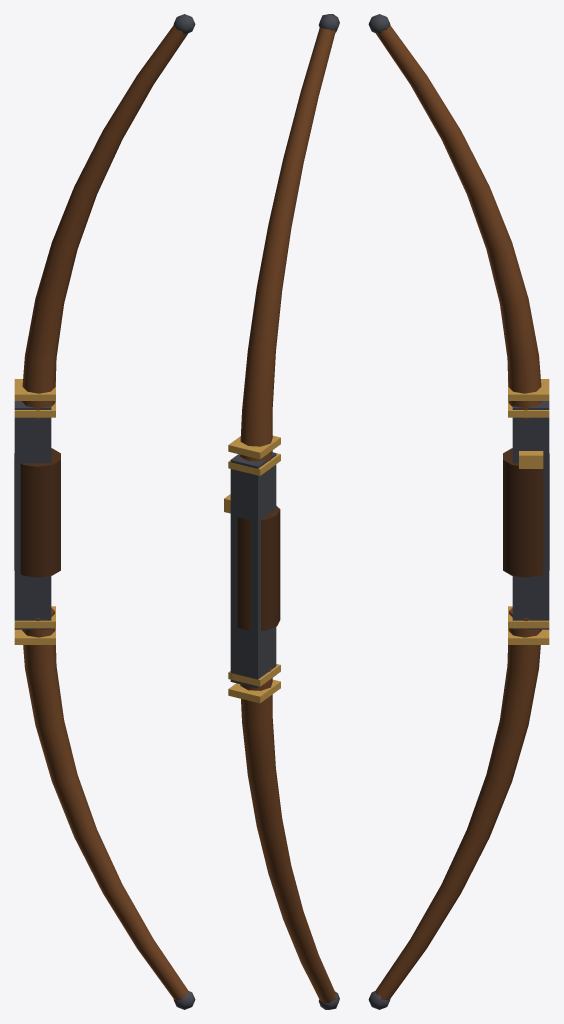
Rendered from longbow.glb.
3 views of the same model, side by side, from view 1: azimuth 90°, elevation 25°; view 2: azimuth 150°, elevation 25°; view 3: azimuth 270°, elevation 25° (orthographic).
Visible parts, largest first — view 1: Longbow_Wood, Longbow_Darksteel, Longbow_Leather, Longbow_Brass; view 2: Longbow_Wood, Longbow_Darksteel, Longbow_Leather, Longbow_Brass; view 3: Longbow_Wood, Longbow_Darksteel, Longbow_Leather, Longbow_Brass.
Boxes of the visible parts, box(x1,y1,x2,y2) form: Longbow_Wood: box(21, 25, 188, 1000); Longbow_Darksteel: box(14, 14, 195, 1009); Longbow_Leather: box(14, 448, 60, 577); Longbow_Brass: box(14, 379, 55, 644); Longbow_Wood: box(240, 27, 335, 1003); Longbow_Darksteel: box(230, 14, 339, 1009); Longbow_Leather: box(237, 506, 280, 631); Longbow_Brass: box(224, 435, 280, 703); Longbow_Wood: box(375, 25, 542, 1000); Longbow_Darksteel: box(368, 14, 549, 1009); Longbow_Leather: box(503, 448, 549, 577); Longbow_Brass: box(508, 379, 549, 644).
Size of the model in its own units: 0.042 by 0.898 by 0.148.
